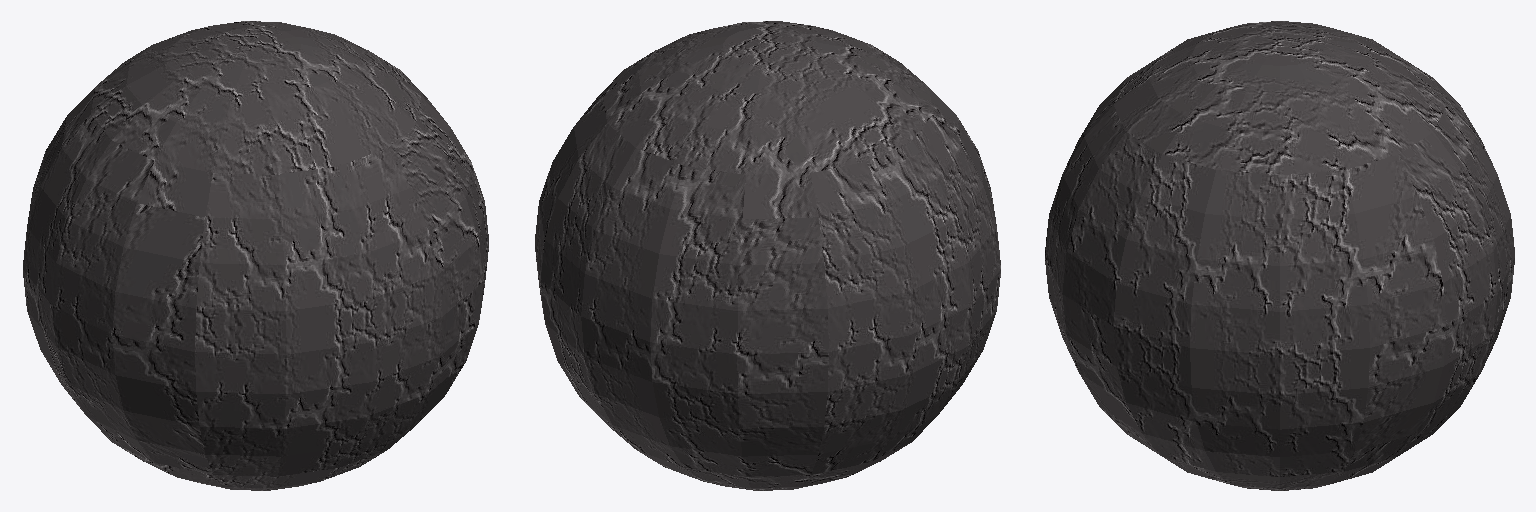
3 renders of one model, left to right at view 1: azimuth 30°, elevation 25°; view 2: azimuth 150°, elevation 25°; view 3: azimuth 270°, elevation 25°, orthographic.
Visible parts, largest first — view 1: Sphere; view 2: Sphere; view 3: Sphere.
Part boxes in pixels (left/top/right/bottom): Sphere: left=23, top=21, right=488, bottom=490; Sphere: left=535, top=21, right=1000, bottom=490; Sphere: left=1045, top=21, right=1514, bottom=490.
Size of the model in its own units: 2 by 2 by 2.
Materials: 1 (1 with a texture image).